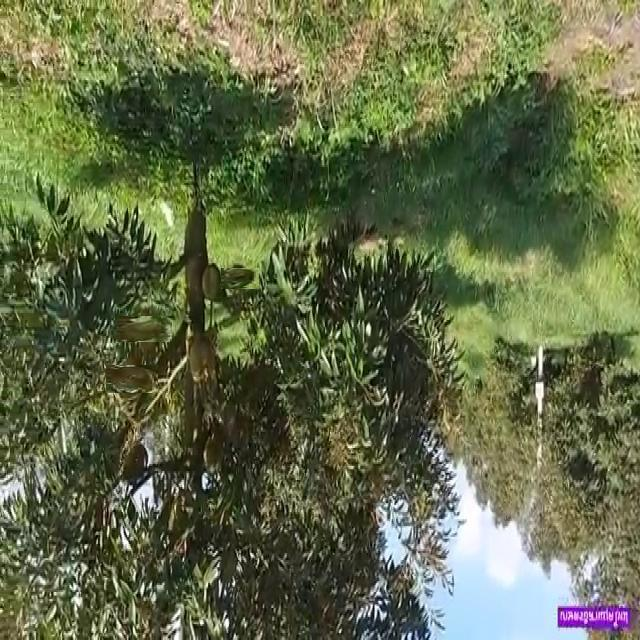durian: (124, 309, 165, 350), (111, 358, 152, 399), (188, 330, 216, 385), (201, 260, 223, 304), (225, 264, 255, 294)
